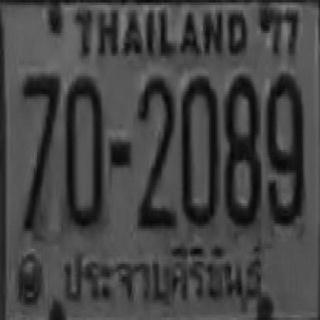N00: (63, 74, 102, 226), (180, 74, 217, 223)
N02: (135, 76, 174, 229)
N07: (20, 72, 58, 230), (21, 72, 58, 179)
N08: (223, 72, 258, 225)
N09: (264, 71, 303, 224)
P50: (60, 243, 270, 311)
